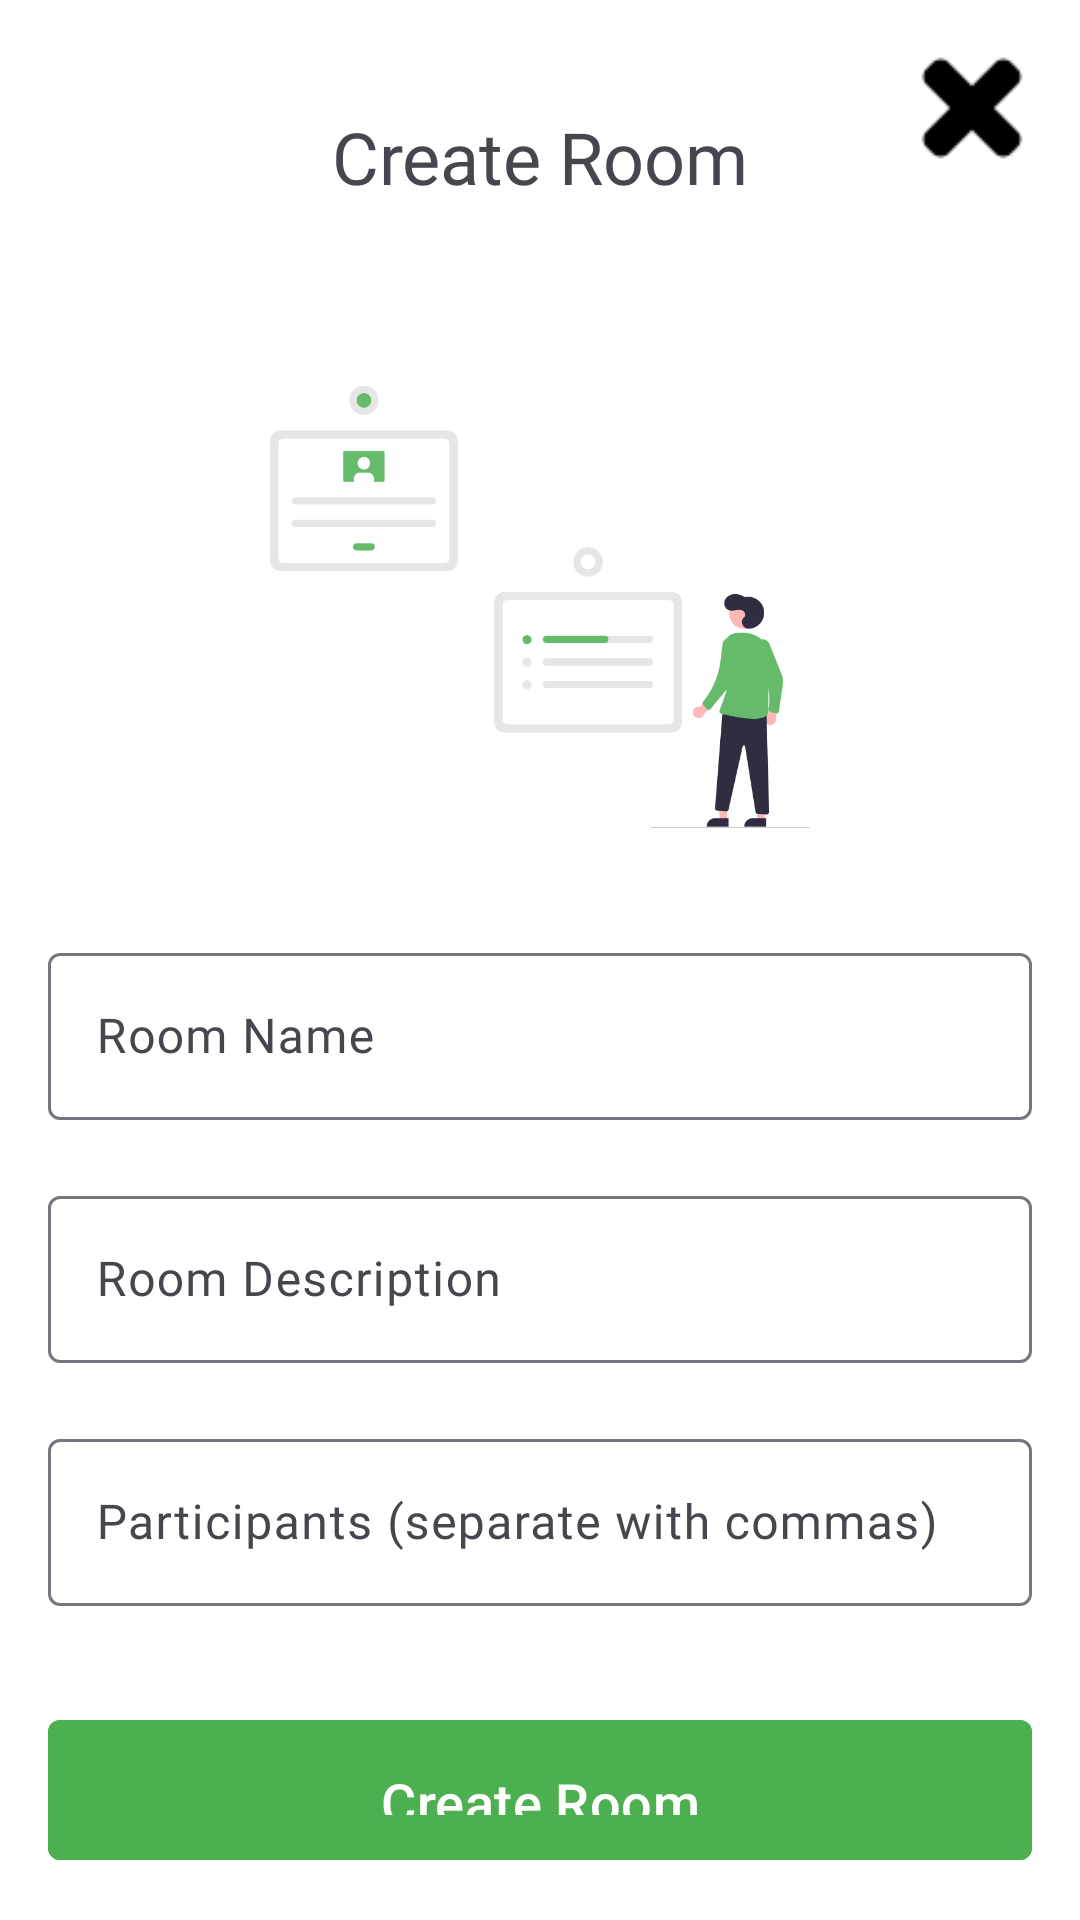

Point at icon controls on the screen. Image size 1080×1920, points as point (x, y).
close: point (972, 108)
